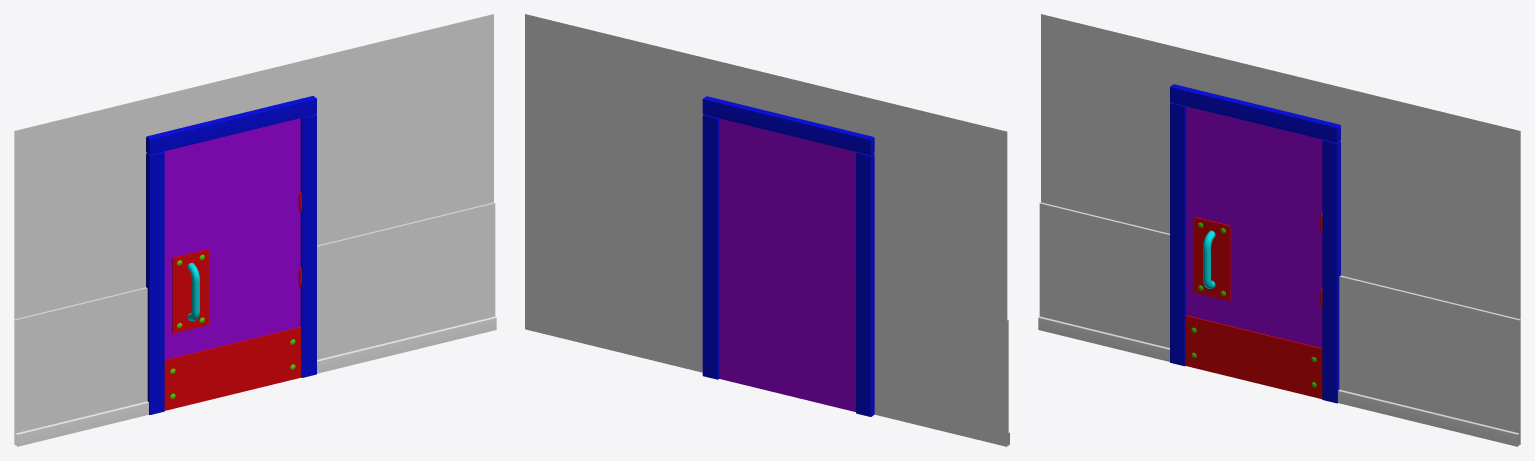
Rendered from Puerta_Animada.fbx.
3 renders of one model, left to right at view 1: azimuth 30°, elevation 25°; view 2: azimuth 150°, elevation 25°; view 3: azimuth 330°, elevation 25°, orthographic.
Visible parts, largest first — view 1: wall_door, tiles_door, door_metal, frame_door, skirting_door; view 2: wall_door, door_metal, frame_door; view 3: wall_door, tiles_door, door_metal, frame_door, skirting_door.
Boxes of the visible parts, left/top/right/bottom form: wall_door: left=14, top=14, right=493, bottom=444; tiles_door: left=14, top=202, right=495, bottom=445; door_metal: left=164, top=118, right=301, bottom=410; frame_door: left=146, top=96, right=316, bottom=414; skirting_door: left=16, top=316, right=496, bottom=446; wall_door: left=525, top=14, right=1007, bottom=446; door_metal: left=719, top=118, right=856, bottom=411; frame_door: left=702, top=96, right=874, bottom=416; wall_door: left=1041, top=14, right=1520, bottom=444; tiles_door: left=1039, top=202, right=1520, bottom=445; door_metal: left=1185, top=106, right=1322, bottom=398; frame_door: left=1170, top=84, right=1340, bottom=403; skirting_door: left=1038, top=316, right=1518, bottom=446.
Bounding box in the file's own units: 400 × 250 × 19.32.
